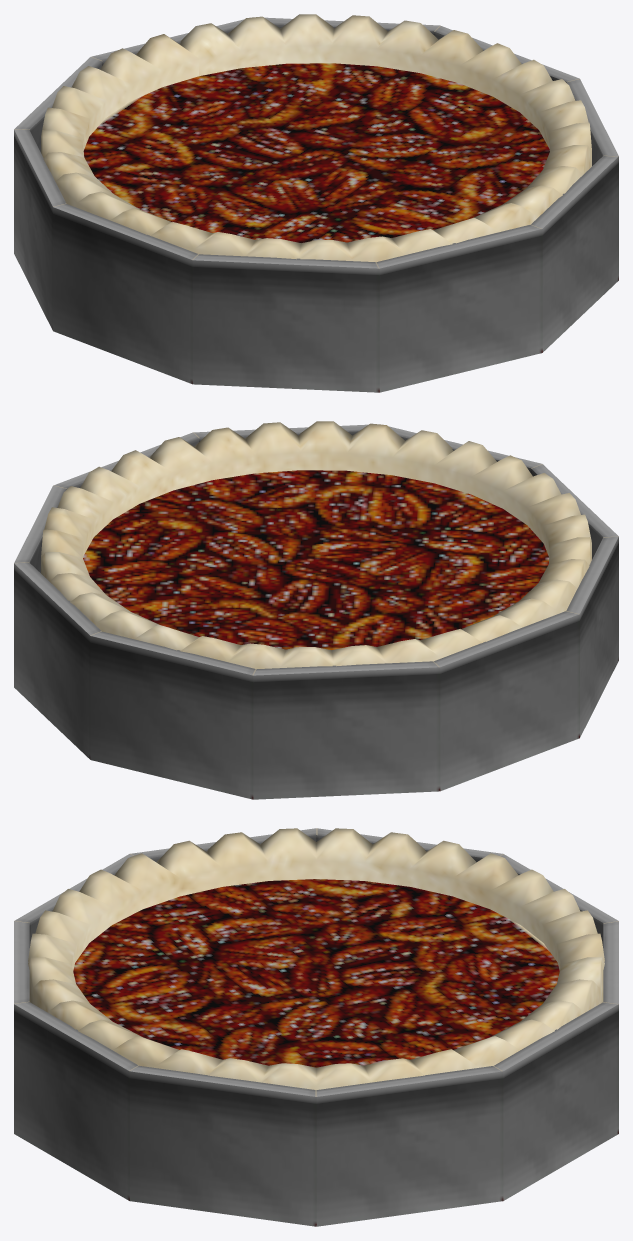
File: VFX_BakingPanWholePie.fbx
3 views of the same model, one above another, from view 1: azimuth 30°, elevation 25°; view 2: azimuth 150°, elevation 25°; view 3: azimuth 270°, elevation 25° (orthographic). The views are drawn at different scales.
Visible parts, largest first — view 1: Pie Whole Open Baking Pan; view 2: Pie Whole Open Baking Pan; view 3: Pie Whole Open Baking Pan.
Part boxes in pixels (<box>): Pie Whole Open Baking Pan: <box>14,14,618,392</box>; Pie Whole Open Baking Pan: <box>14,421,618,799</box>; Pie Whole Open Baking Pan: <box>14,828,618,1226</box>.
Bounding box in the file's own units: 0.2377 × 0.0591 × 0.2261.
